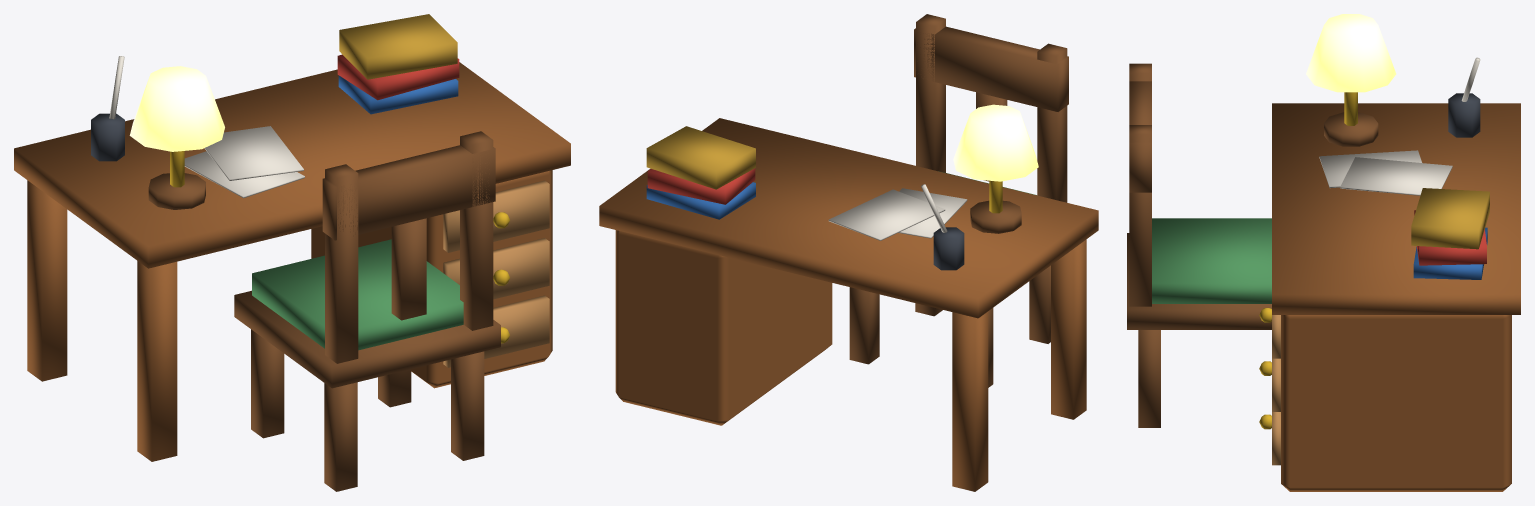
Rendered from desk.glb.
3 views of the same model, side by side, from view 1: azimuth 30°, elevation 25°; view 2: azimuth 150°, elevation 25°; view 3: azimuth 270°, elevation 25° (orthographic). The views are drawn at different scales.
Visible parts, largest first — view 1: desk; view 2: desk; view 3: desk.
Boxes of the visible parts, bbox=[...] form: desk: bbox=[14, 14, 570, 491]; desk: bbox=[599, 14, 1098, 491]; desk: bbox=[1127, 14, 1520, 491].
Size of the model in its own units: 1 by 0.77 by 0.87.
